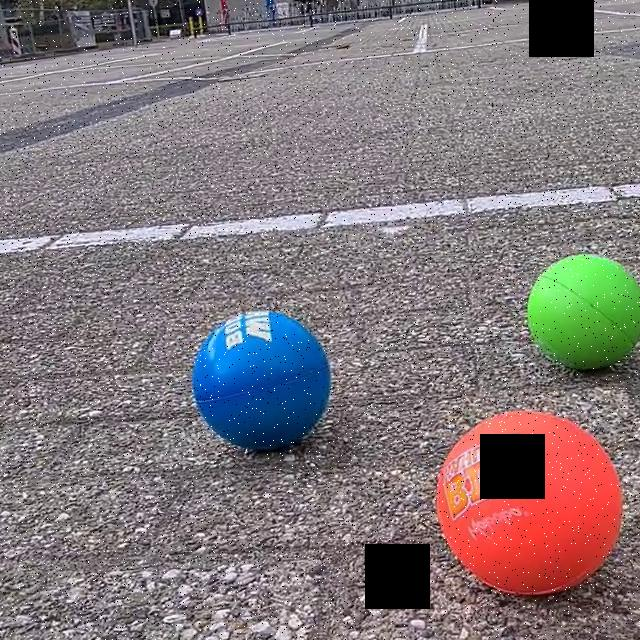ball: (522, 407, 626, 597), (526, 250, 638, 381)
